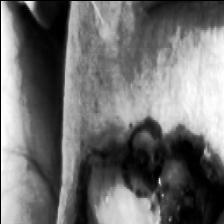Potentially Malignant Skin Tumors: (95, 138, 179, 224)
